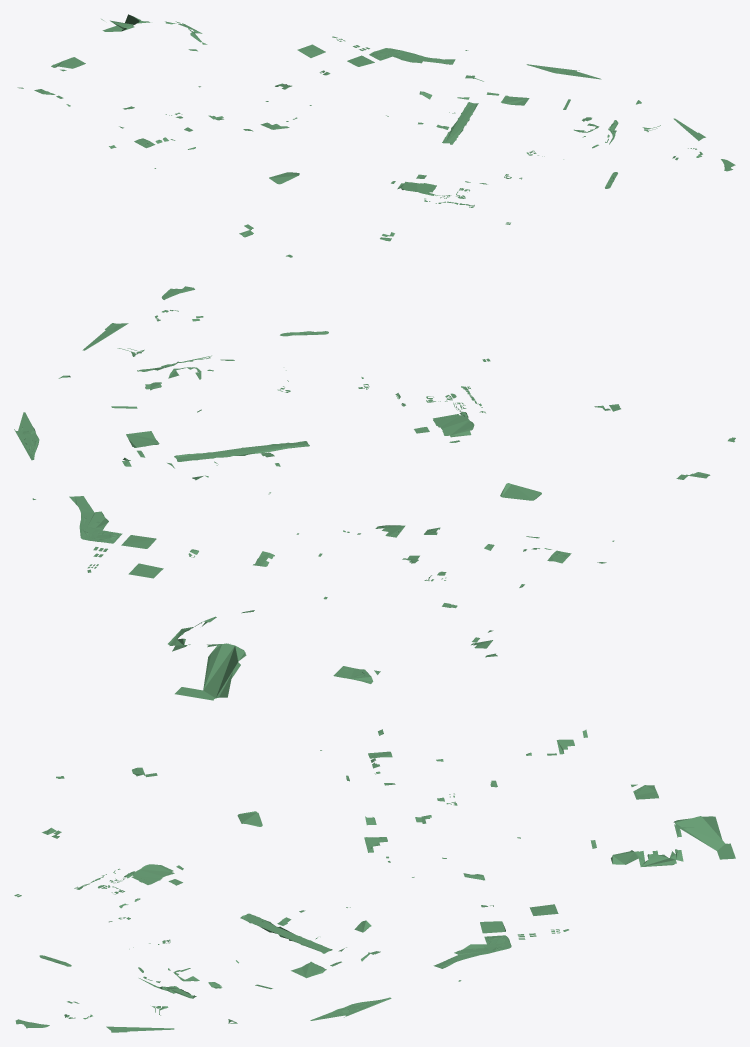
File: green.glb
3 renders of one model, top to bottom at view 1: azimuth 30°, elevation 25°; view 2: azimuth 150°, elevation 25°; view 3: azimuth 270°, elevation 25°, orthographic. The views are drawn at different scales.
Visible parts, largest first — view 1: green; view 2: green; view 3: green.
Boxes of the visible parts, x1,y1,x2,y2 form: green: [17, 14, 735, 257]; green: [14, 286, 735, 700]; green: [14, 729, 735, 1032].
Bounding box in the file's own units: 2394 × 132 × 2612.
